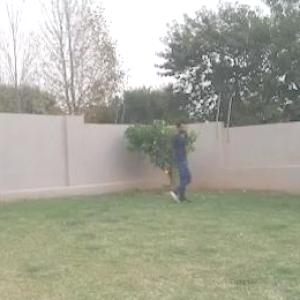follow: (170, 119, 193, 212)
